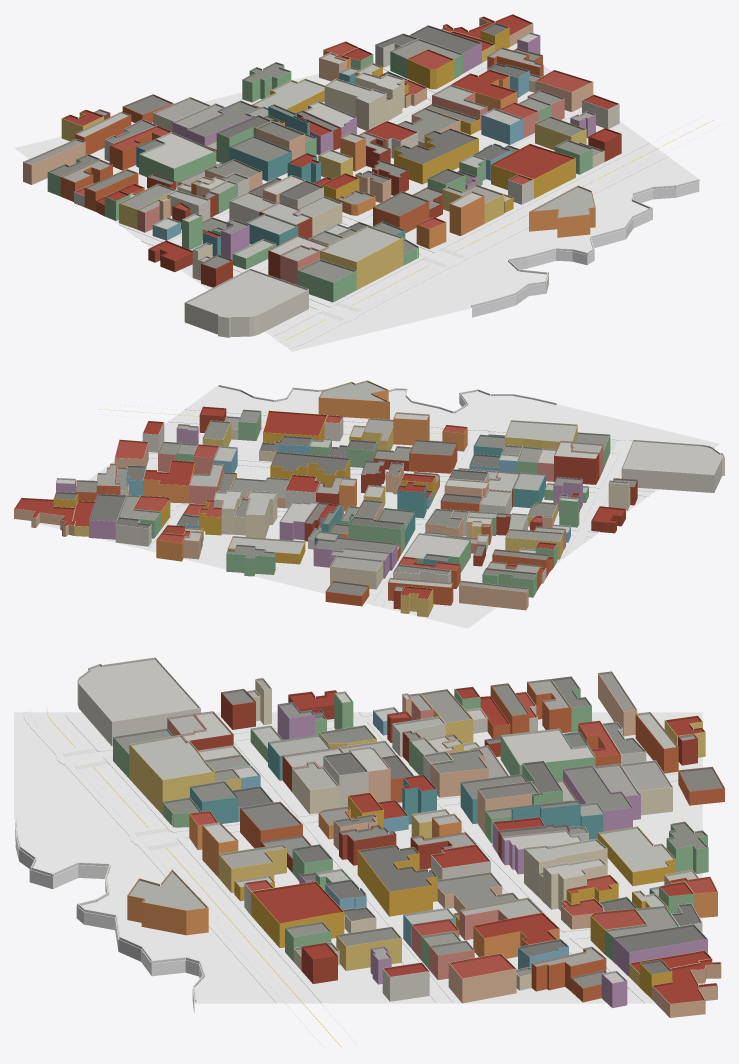
3 renders of one model, top to bottom at view 1: azimuth 30°, elevation 25°; view 2: azimuth 150°, elevation 25°; view 3: azimuth 270°, elevation 25°, orthographic. The views are drawn at different scales.
Parts seen in each view (by area): view 1: walls, roofs, plaza, asphalt, sidewalk, coast, stone, markings, concrete; view 2: roofs, walls, plaza, asphalt, sidewalk, stone; view 3: roofs, walls, plaza, asphalt, sidewalk, coast, markings, concrete, stone.
Part boxes in pixels (left/top/right/bottom): walls: left=23, top=18, right=621, bottom=337; roofs: left=23, top=14, right=620, bottom=317; plaza: left=14, top=44, right=700, bottom=351; asphalt: left=119, top=67, right=664, bottom=346; sidewalk: left=115, top=47, right=668, bottom=348; coast: left=472, top=181, right=699, bottom=317; stone: left=471, top=179, right=699, bottom=307; markings: left=273, top=116, right=724, bottom=346; concrete: left=289, top=156, right=669, bottom=349; roofs: left=14, top=380, right=724, bottom=599; walls: left=14, top=390, right=724, bottom=617; plaza: left=39, top=386, right=719, bottom=628; asphalt: left=148, top=410, right=713, bottom=606; sidewalk: left=146, top=407, right=716, bottom=607; stone: left=218, top=385, right=556, bottom=413; roofs: left=77, top=657, right=724, bottom=1003; walls: left=77, top=668, right=724, bottom=1017; plaza: left=14, top=712, right=702, bottom=1003; asphalt: left=30, top=712, right=678, bottom=1003; sidewalk: left=23, top=712, right=702, bottom=1003; coast: left=15, top=822, right=202, bottom=1013; markings: left=30, top=709, right=356, bottom=1049; concrete: left=20, top=712, right=276, bottom=1003; stone: left=16, top=818, right=204, bottom=1002.
Size of what is drawn, in the model's own units: 316 by 19.15 by 258.
